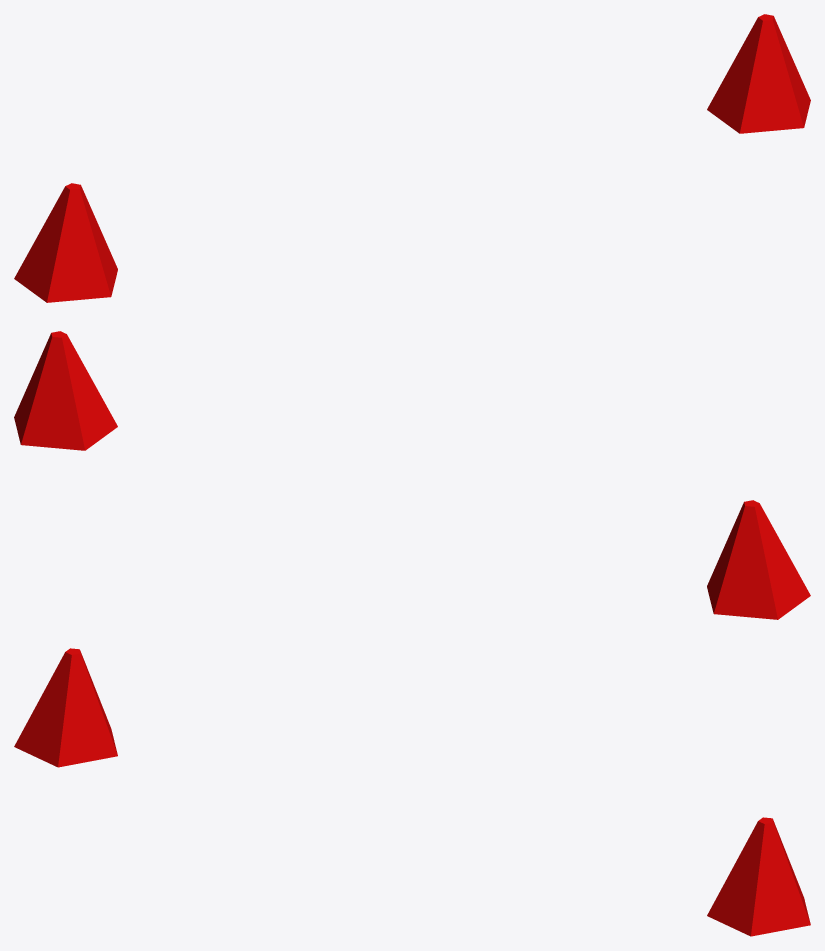
File: Obstacle1.fbx
3 views of the same model, one above another, from view 1: azimuth 30°, elevation 25°; view 2: azimuth 150°, elevation 25°; view 3: azimuth 330°, elevation 25° (orthographic).
Visible parts, largest first — view 1: pCylinder4, pCylinder5; view 2: pCylinder4, pCylinder5; view 3: pCylinder5, pCylinder4.
Boxes of the visible parts, box(x1,y1,x2,y2) form: pCylinder4: box(14, 183, 117, 302); pCylinder5: box(707, 14, 810, 133); pCylinder4: box(707, 500, 810, 619); pCylinder5: box(14, 331, 117, 450); pCylinder5: box(707, 817, 810, 936); pCylinder4: box(14, 648, 117, 767).
Bounding box in the file's own units: 395 × 45.27 × 46.62.
